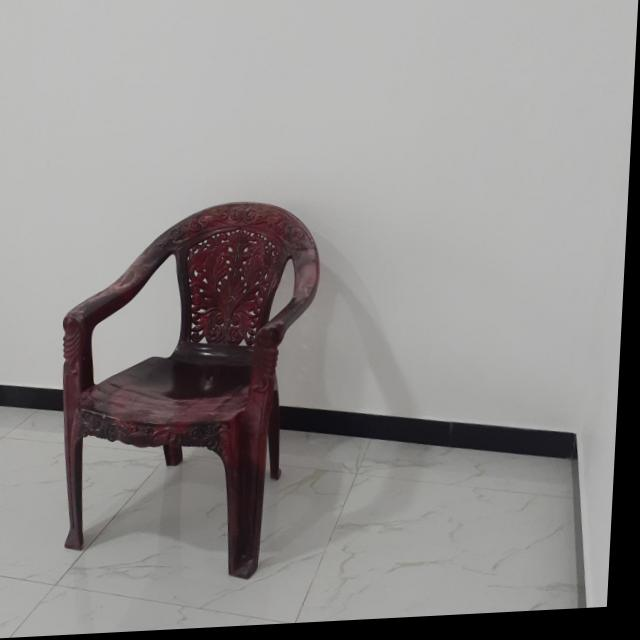Chair: (55, 199, 328, 592)
